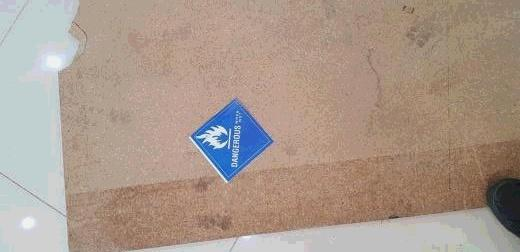dangerous-when-wet: (190, 96, 273, 186)
